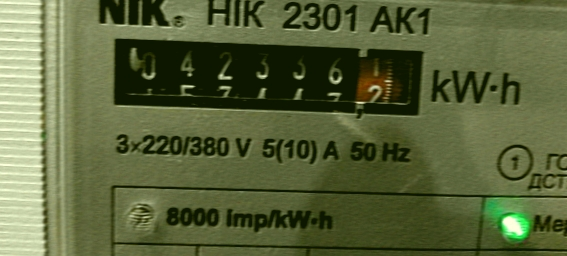0: (138, 46, 158, 80)
1: (368, 50, 381, 77)
2: (214, 46, 237, 80), (364, 81, 382, 103)
3: (251, 46, 271, 79), (290, 48, 309, 80)
4: (178, 44, 197, 77)
6: (325, 51, 346, 86)
screen: (99, 22, 437, 127)
